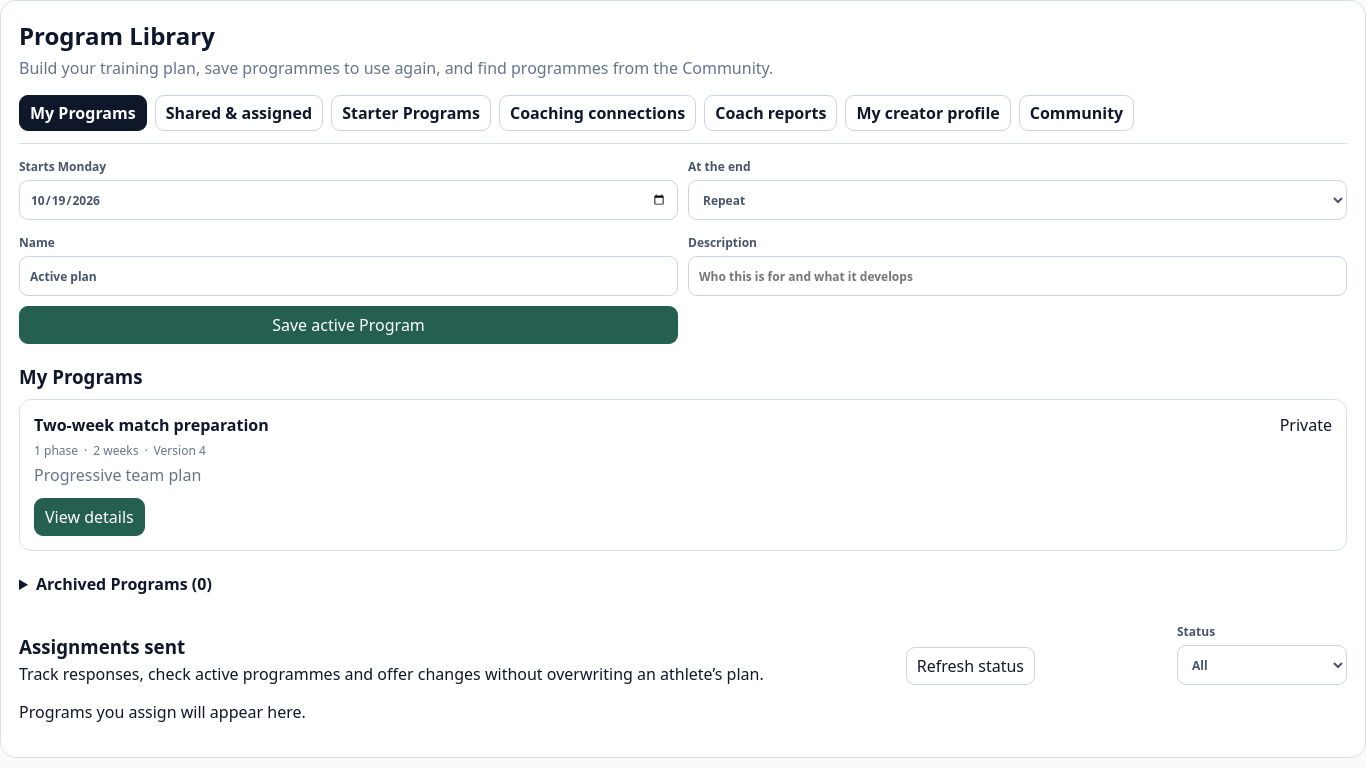
Test: personal programme management integration › shows the same three adoption choices for saved Programs
Check: the heading "Two-week match preparation" is shown, box top-left (34, 414), bottom-right (269, 436)
Click the button "View details": (89, 517) top-left (34, 498), bottom-right (145, 536)
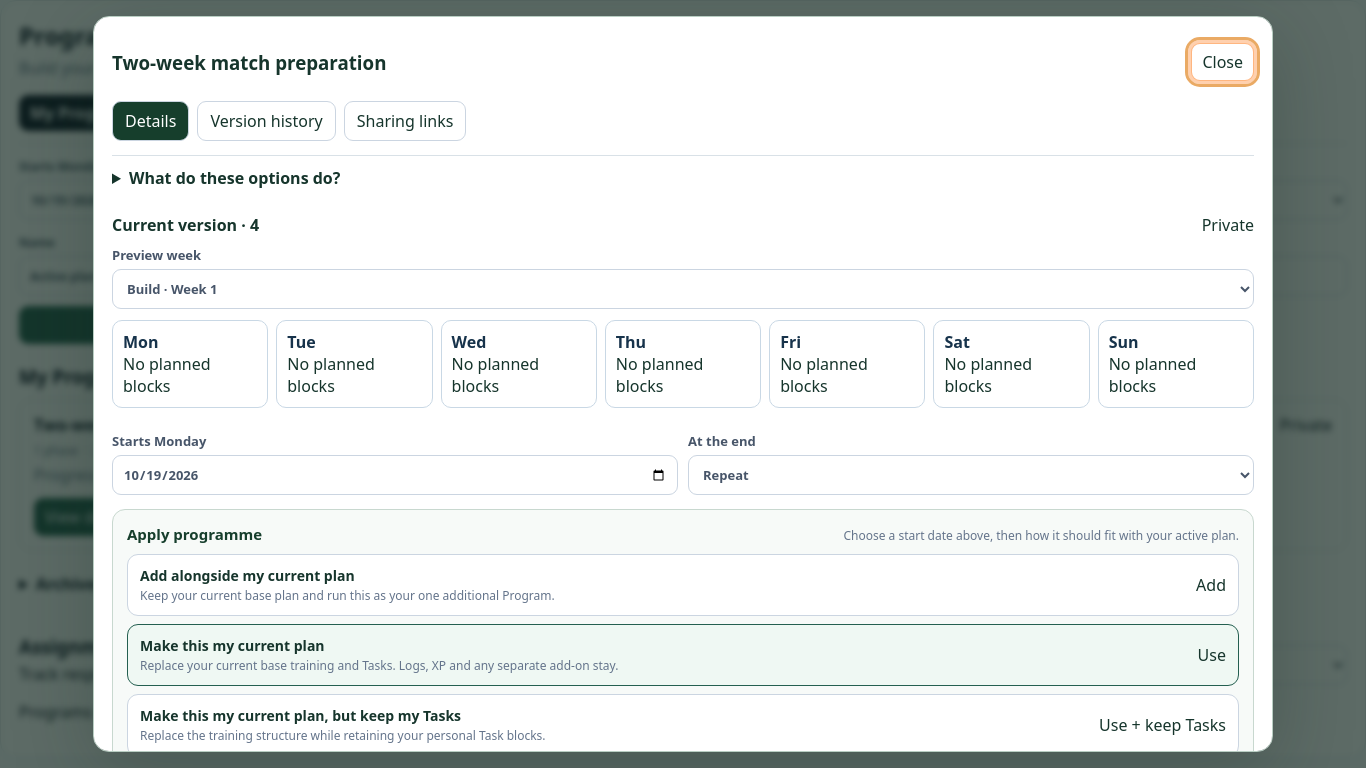
Check: the button "Add alongside my current plan" is enabled, box top-left (127, 554), bottom-right (1239, 616)
Check: the button "Make this my current plan, but keep my Tasks" is enabled, box top-left (127, 694), bottom-right (1239, 752)
Check: the 6th button is enabled, box top-left (127, 624), bottom-right (1239, 686)
